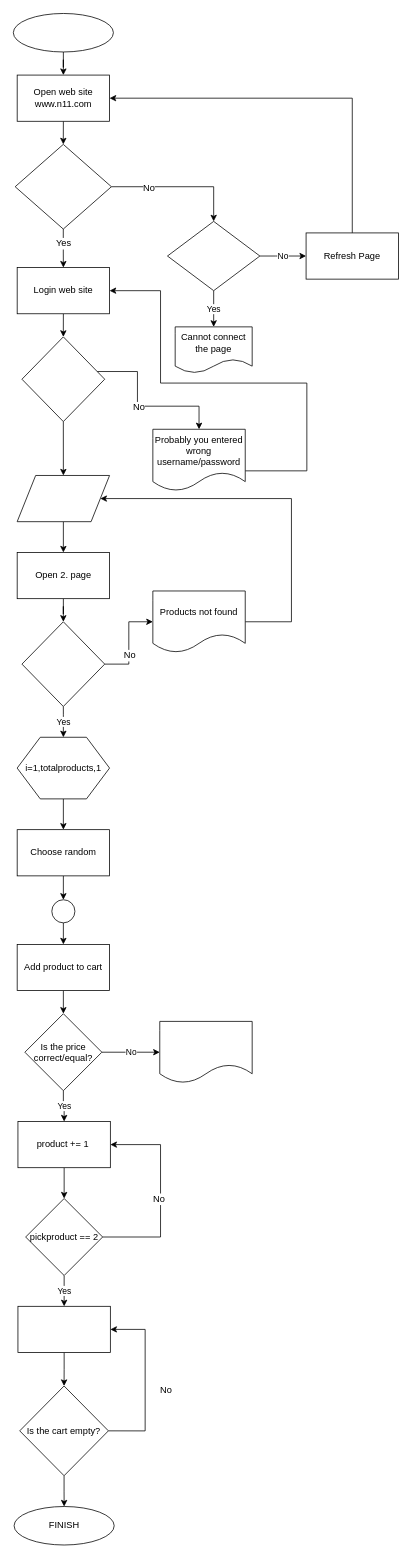
Some shapes in this 413 by 1558 pixel diagram are drawn without their labels. Each missing label, with the centre of its shape:
delete product from cart: point 63,1329
Did you login?: point 63,379
If the problem about the server?: point 213,256
Is the homepage opened?: point 62,186
Is the second page opened?: point 63,663
It has different price for your picked products: point 205,1052
Search for word "bilgisayar": point 63,498
START: point 63,32
